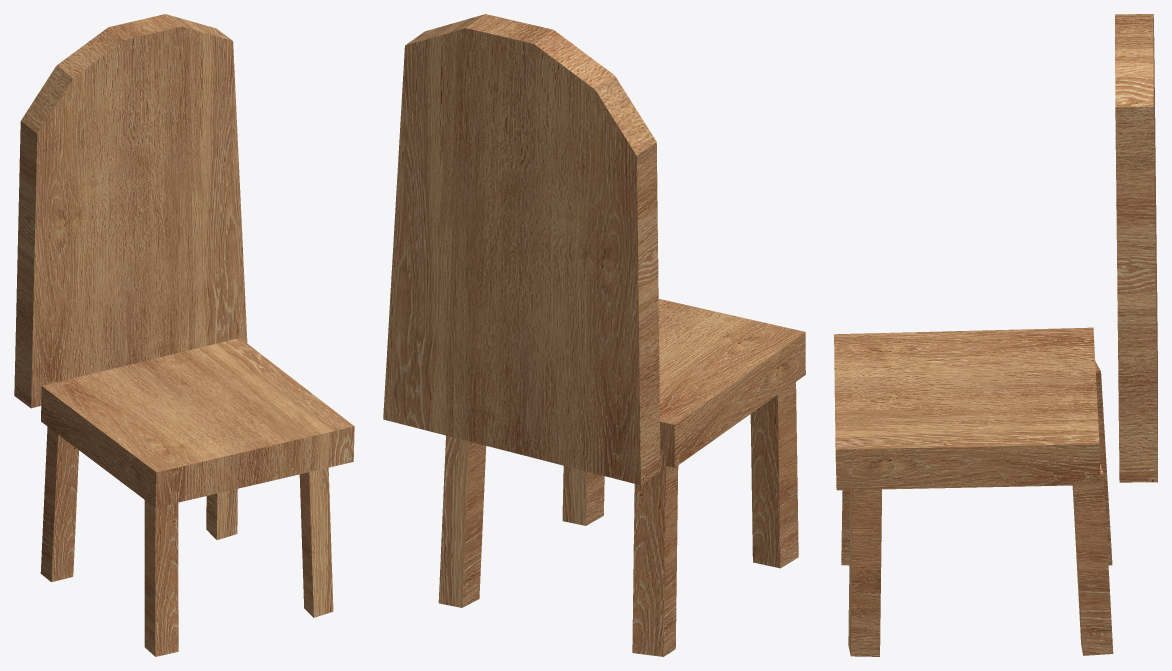
Rendered from 42402_ours.glb.
3 views of the same model, side by side, from view 1: azimuth 30°, elevation 25°; view 2: azimuth 150°, elevation 25°; view 3: azimuth 270°, elevation 25° (orthographic). The views are drawn at different scales.
Parts seen in each view (by area): view 1: ParentEmpty; view 2: ParentEmpty; view 3: ParentEmpty.
Boxes of the visible parts, x1,y1,x2,y2 form: ParentEmpty: (14, 14, 354, 656); ParentEmpty: (383, 14, 805, 656); ParentEmpty: (834, 14, 1157, 656).
Size of the model in its own units: 0.4453 by 1 by 0.4973.
1 material, 1 textured.
